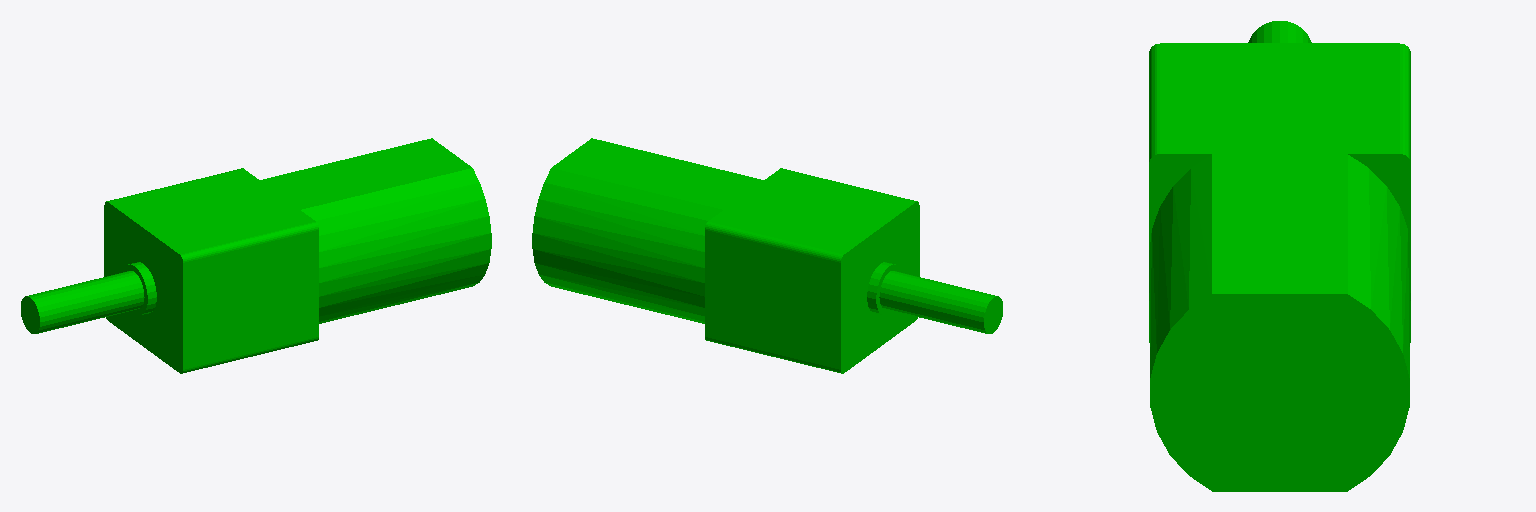
The robot description file, URDF, robot "motor_test":
<robot name="motor_test">
<!-- Materials -->
  <material name="blue">
    <color rgba = "0 0 0.8 1"/>
  </material>
  <material name="red">
    <color rgba = "0.8 0.0 0 1"/>
  </material>
  <material name="green">
    <color rgba = "0.0 0.8 0 1"/>
  </material>
  <material name="purple">
    <color rgba = "0.4 0.1 0.8 1"/>
  </material>
<!-- motor1 -->
  <link name="motor1">
    <visual>
      <origin rpy="0.0 0 0" xyz="0 -6 -5"/>
      <geometry>
        <mesh filename="motor.stl" /> #scale="0.010 0.010 0.010"/>
      </geometry>
      <material name="green"/>
    </visual>
    <collision>
      <origin rpy="0 0 0" xyz="0 -6 -5"/>
      <geometry>
        <mesh filename="motor.stl" /> #scale="0.010 0.010 0.010"/>
      </geometry>
    </collision>
    <inertial>
      <origin xyz="13.6 0 0" rpy="0 0 0.0"/>
      <mass value="0.330"/>
      <inertia ixx="6.710" ixy="0.0" ixz="0.0" 
      iyy="24.3067968176" iyz="0.0" izz="23.0967968176"/>
    </inertial>
  </link>

   <!-- motor2 -->
  <link name="motor2">
    <visual>
      <origin rpy="0.0 0 0" xyz="0 -6 -5"/>
      <geometry>
        <mesh filename="motor.stl" />#scale="0.010 0.010 0.010"/>
      </geometry>
      <material name="red"/>
    </visual>
    <collision>
      <origin rpy="0 0 0" xyz="0 -6 -5"/>
      <geometry>
        <mesh filename="motor.stl" />#scale="0.010 0.010 0.010"/>
      </geometry>
    </collision>
    <inertial>
      <origin xyz="13.6 0 0" rpy="0 0 0.0"/>
      <mass value="0"/>
      <inertia ixx="0" ixy="0.0" ixz="0.0" 
      iyy="0" iyz="0.0" izz="0"/>
    </inertial>
  </link>

  <joint name="jointmotor1" type="continuous">
    <parent link="motor1"/>
    <child link="motor2"/>
    <axis xyz="0 1 0"/>
    <origin rpy="0 0 0" xyz="0 0 0"/> 
  </joint>
  
  
  </robot>

 

--- Render facts (derived) ---
The picture shows the robot from 3 angles, left to right: view 1: azimuth 30°, elevation 25°; view 2: azimuth 150°, elevation 25°; view 3: azimuth 270°, elevation 25°; orthographic projection.
Model motor_test with 2 links and 1 joints (1 continuous), rooted at motor1, posed every joint at zero.
Visible links, largest first — view 1: motor1; view 2: motor1; view 3: motor1.
Boxes of the visible links, left/top/right/bottom form: motor1: left=21, top=138, right=491, bottom=373; motor1: left=532, top=138, right=1002, bottom=373; motor1: left=1149, top=21, right=1410, bottom=491.
Bounding box of the posed robot: 37.2 × 12 × 10 m (x, y, z).
Meshes: 1 distinct files referenced, 2 mesh visuals loaded (1 binary STL).
